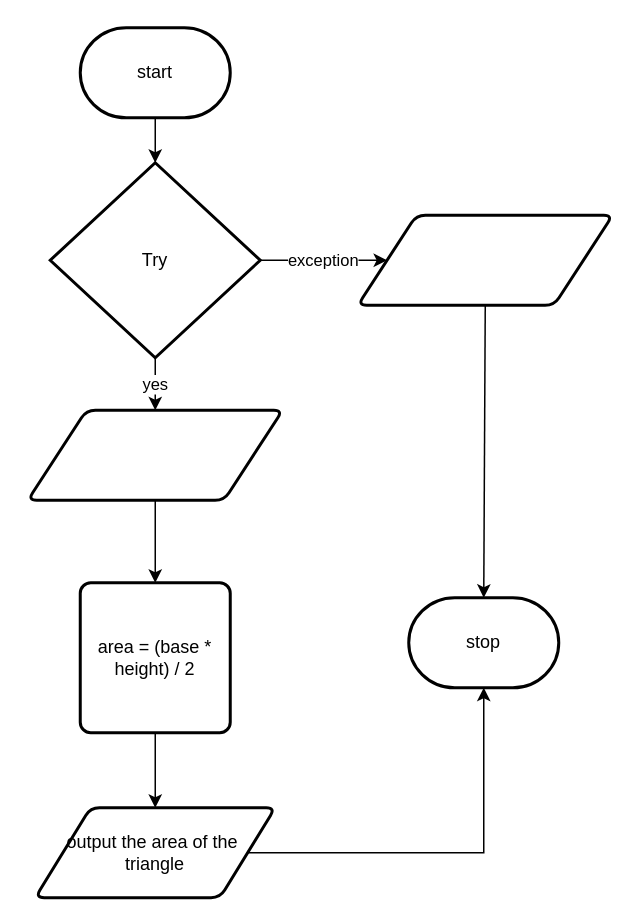
The diagram is 639 pixels wide and 924 high, and some of its shapes have lost their labels. Here are the shapes that lost their labels. From the top down, the box of each, then its label:
(356, 213, 614, 306): user input is invalid
(26, 408, 284, 501): get user input
